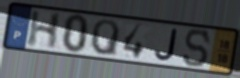0: (60, 13, 91, 55)
4: (121, 21, 146, 61)
H: (25, 10, 64, 51)
J: (153, 28, 179, 63)
Q: (89, 18, 121, 59)
S: (182, 28, 212, 69)
